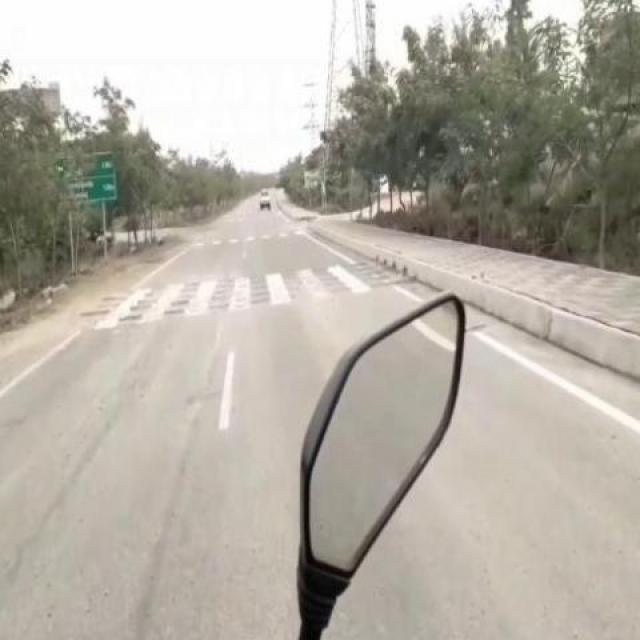Speed Bump: (80, 264, 382, 332)
